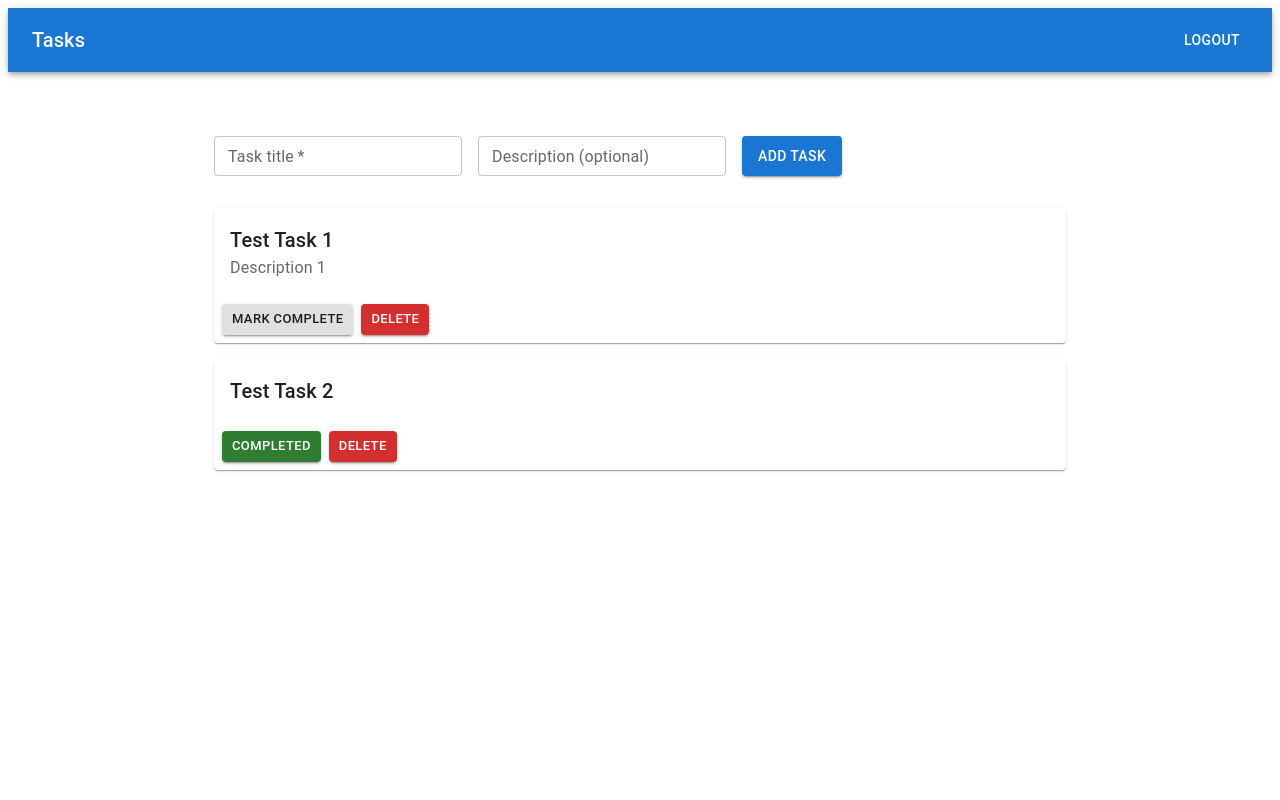
it: Tasks Component › creates a new task successfully
The width and height of the screenshot is (1280, 800).
Type "New Task" into the field labelled "Task title *" at [338, 156], box x1=214 y1=136 x2=462 y2=176
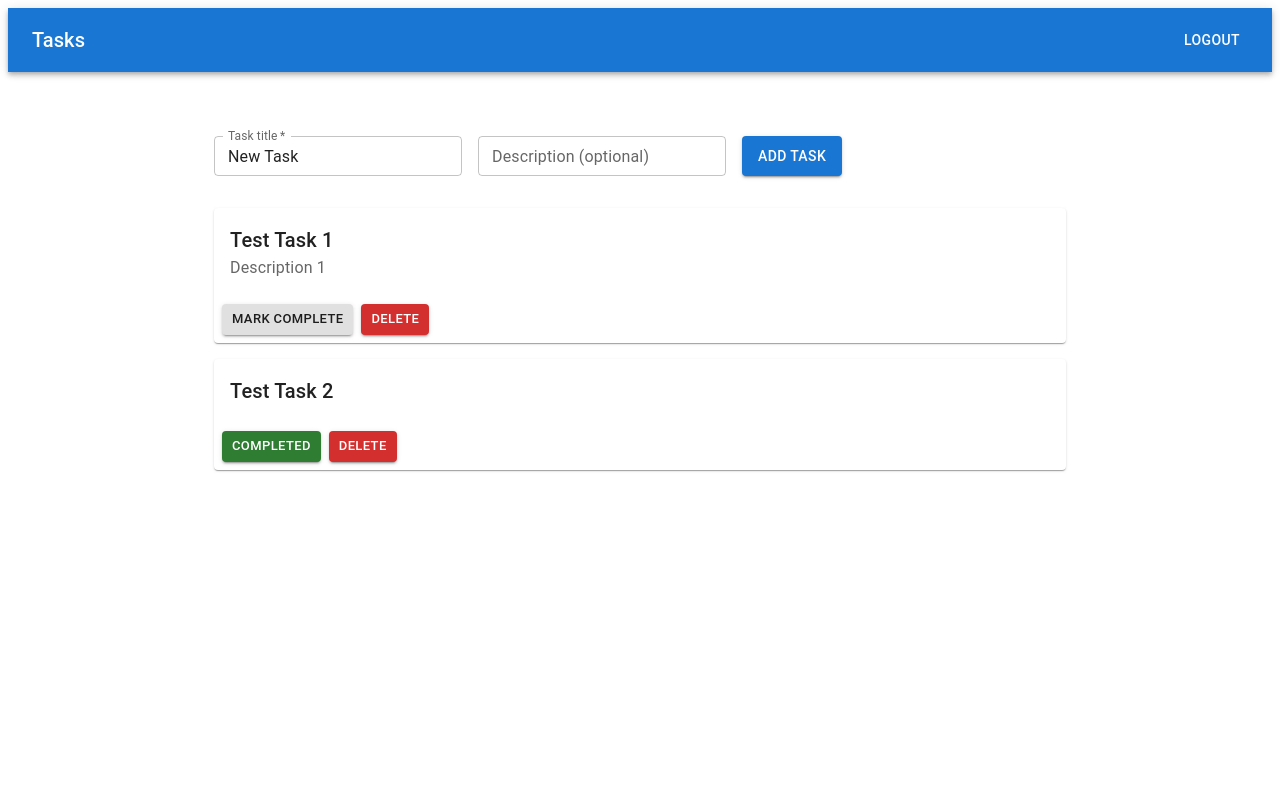
Type "New Description" into the field labelled "Description (optional)" at [602, 156], box x1=478 y1=136 x2=726 y2=176
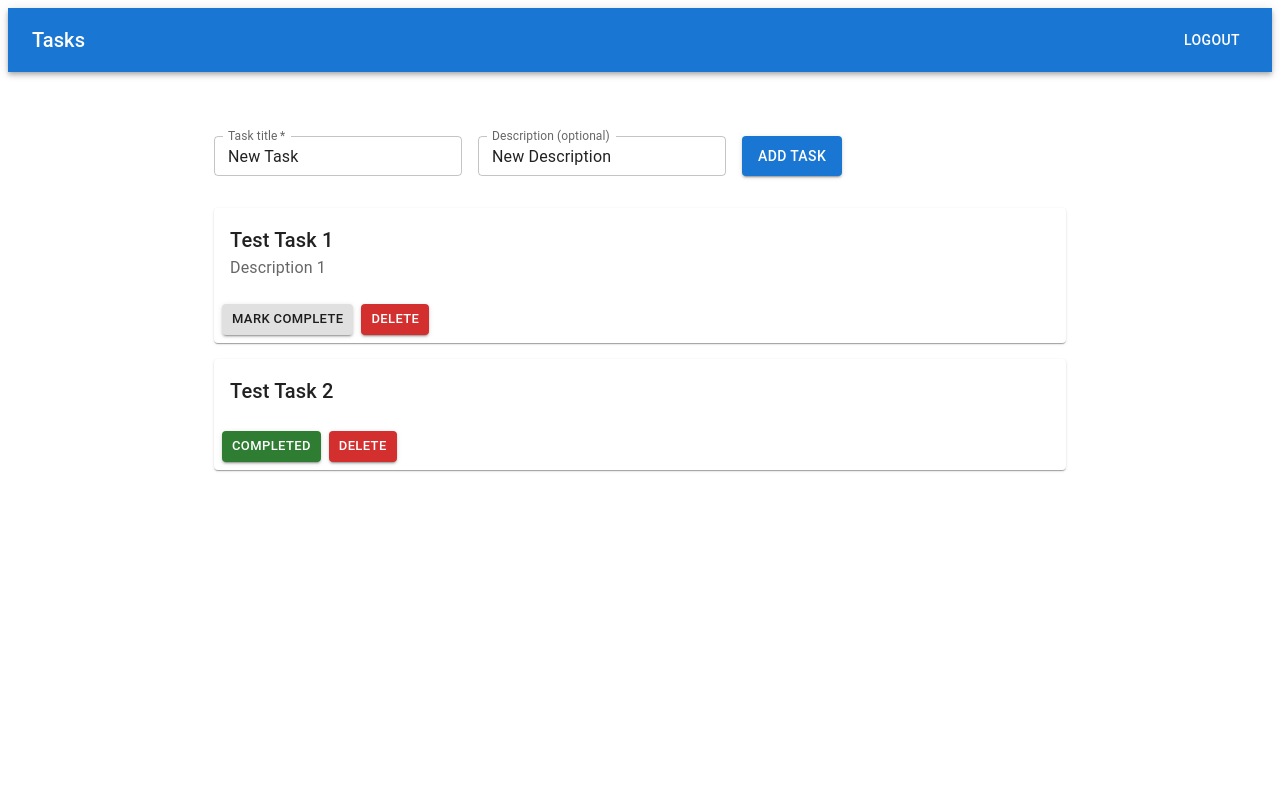
Submit the form from the button "Add Task", box x1=742 y1=136 x2=842 y2=176
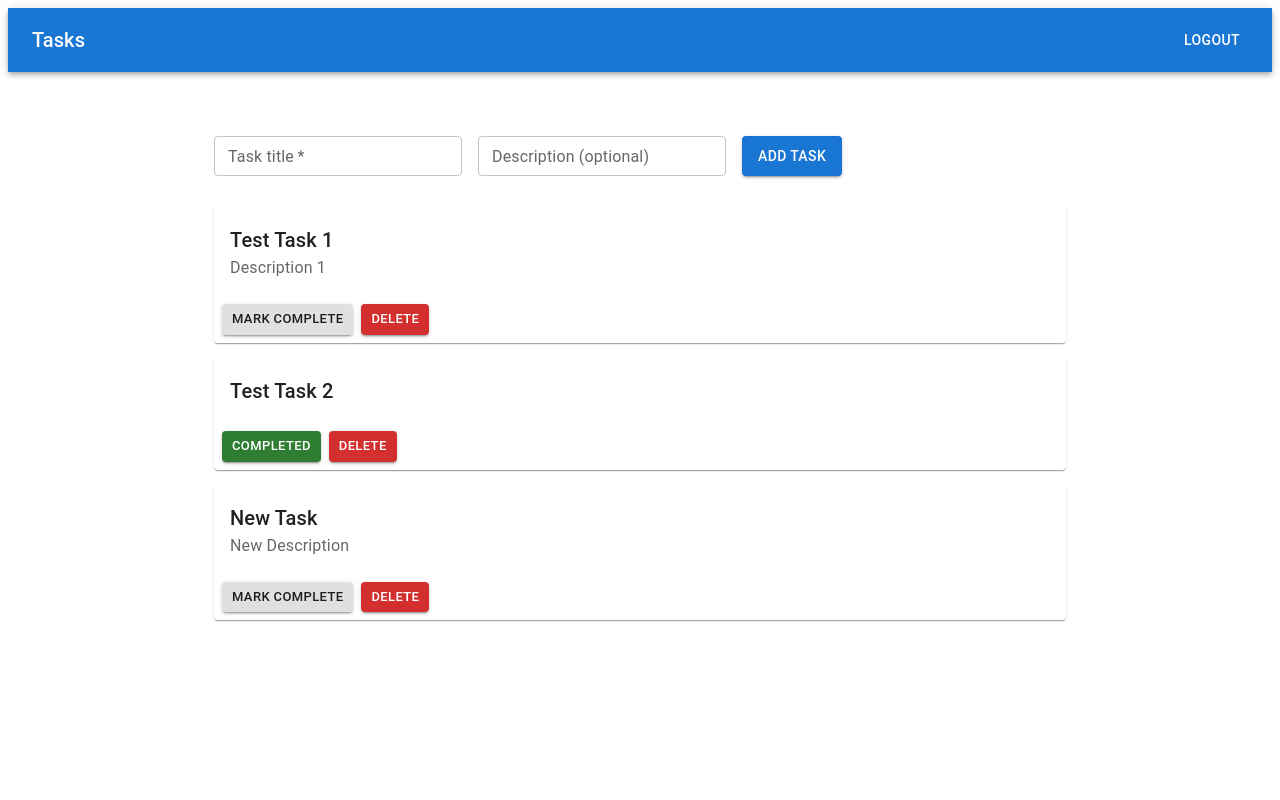
expect the heading "New Task" is shown: met, box x1=230 y1=506 x2=318 y2=530
expect the text "New Description" is shown: met, box x1=230 y1=536 x2=349 y2=554
